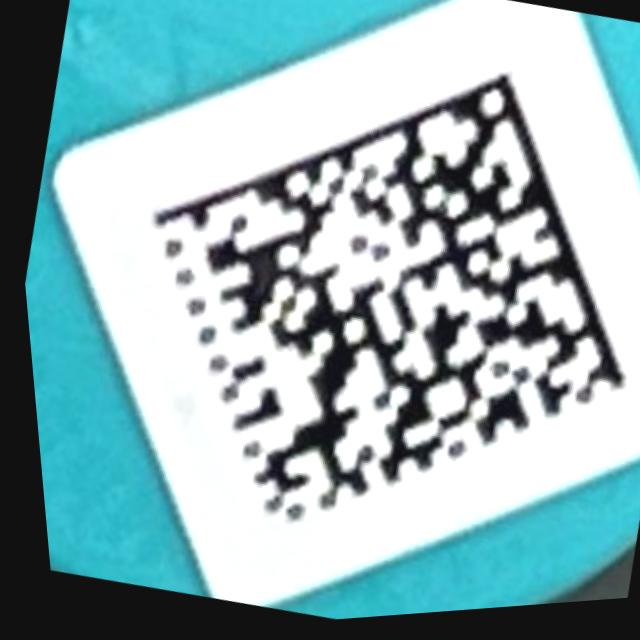QR_CODE: (64, 0, 640, 613)
